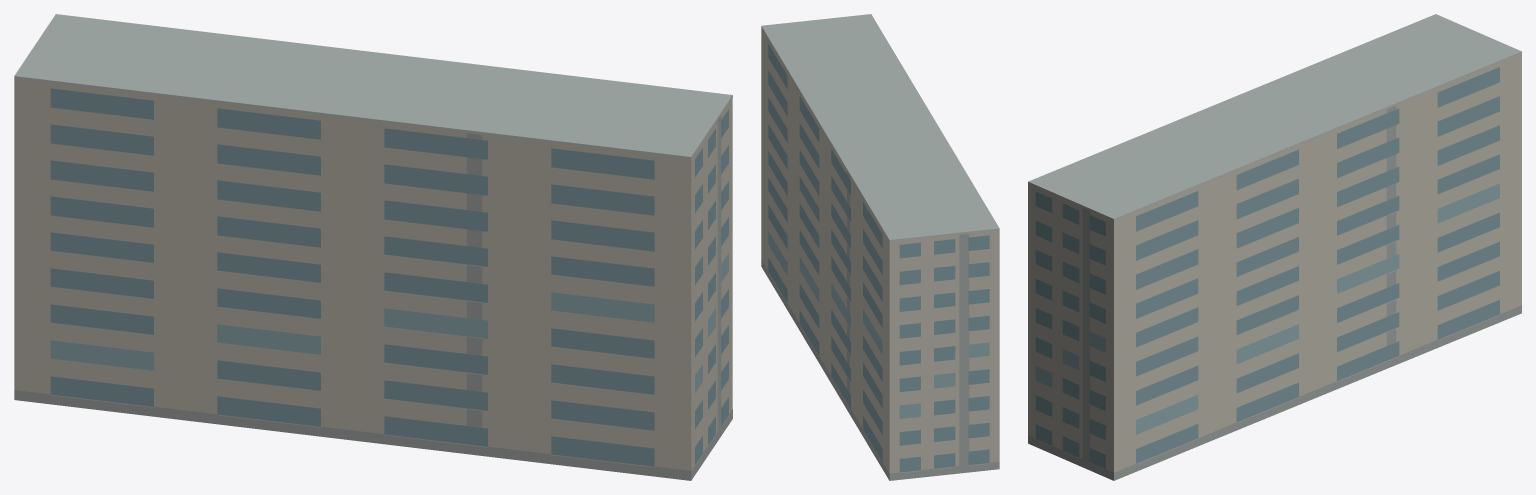
The model's file is residential-115e364d-42dc-4c23-8a87-33bf0cebe0a9.glb.
3 views of the same model, side by side, from view 1: azimuth 30°, elevation 25°; view 2: azimuth 150°, elevation 25°; view 3: azimuth 270°, elevation 25° (orthographic). The views are drawn at different scales.
Parts seen in each view (by area): view 1: residential-115e364d-42dc-4c23-8a87-33bf0cebe0a9.tmp; view 2: residential-115e364d-42dc-4c23-8a87-33bf0cebe0a9.tmp; view 3: residential-115e364d-42dc-4c23-8a87-33bf0cebe0a9.tmp.
Part boxes in pixels (x1,y1,x2,y2): residential-115e364d-42dc-4c23-8a87-33bf0cebe0a9.tmp: [14, 14, 732, 480]; residential-115e364d-42dc-4c23-8a87-33bf0cebe0a9.tmp: [761, 14, 999, 480]; residential-115e364d-42dc-4c23-8a87-33bf0cebe0a9.tmp: [1028, 14, 1521, 480].
Size of the model in its own units: 43.65 by 26 by 44.44.
